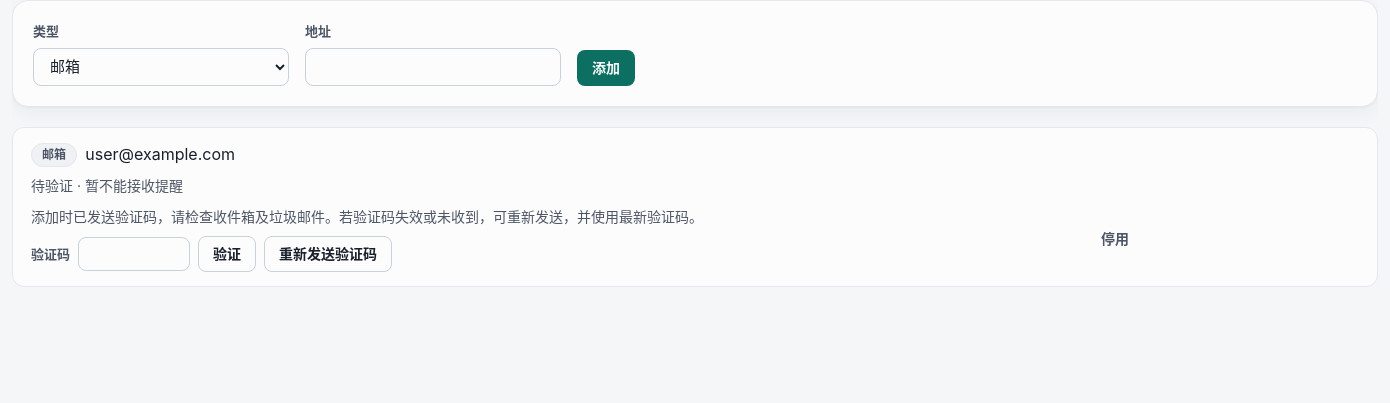
Test: validates channel addresses before submitting and explains inactive verification
expect the text "邮箱 user@example.com" is shown: met, box x1=31 y1=143 x2=235 y2=167
expect the text "待验证 · 暂不能接收提醒" is shown: met, box x1=31 y1=177 x2=183 y2=194
In the field labelled "地址": (433, 67) x1=305 y1=48 x2=561 y2=86, type "bad"
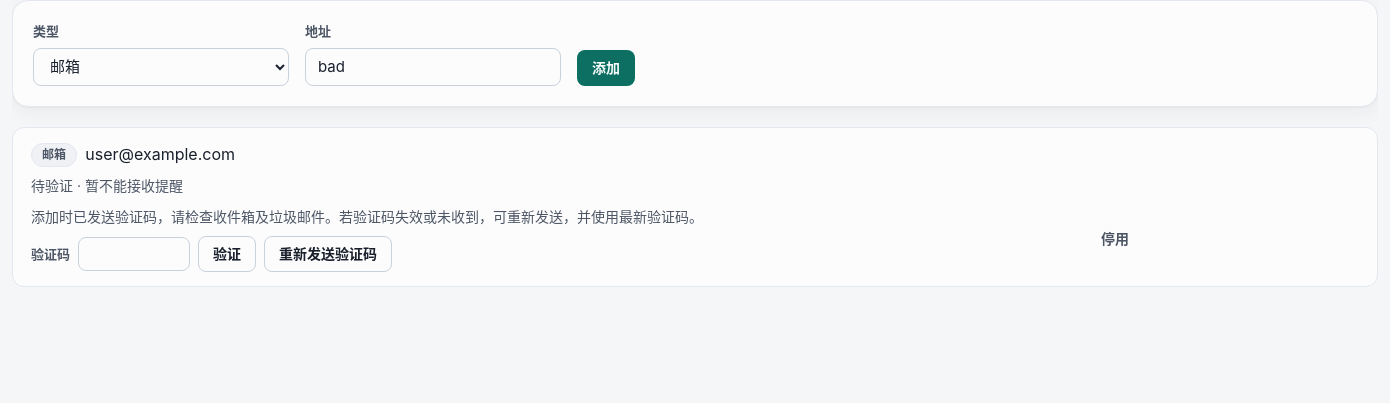
Click the button "添加": click(606, 68) x1=577 y1=50 x2=635 y2=86
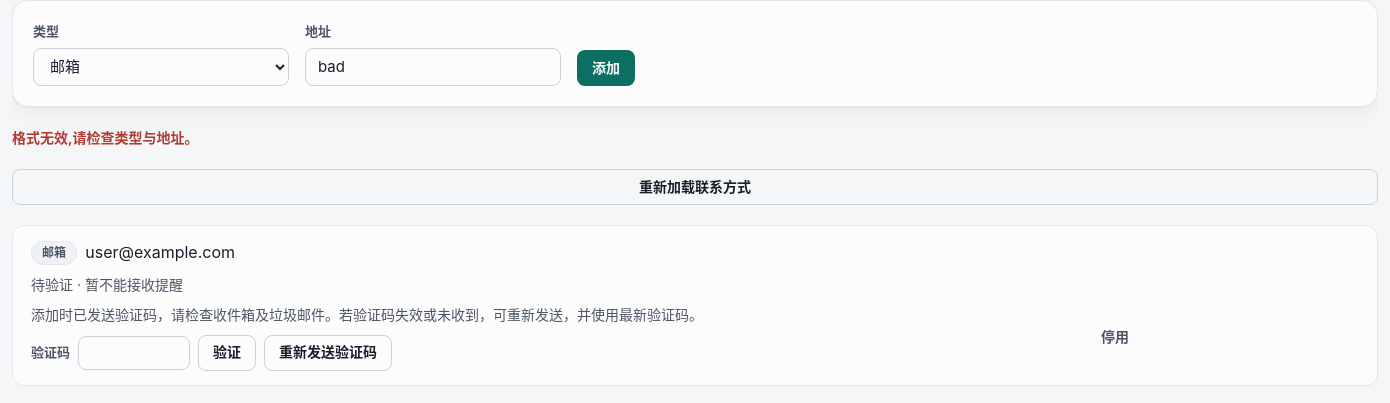
expect the message shows "格式无效": met, box x1=12 y1=129 x2=198 y2=146
